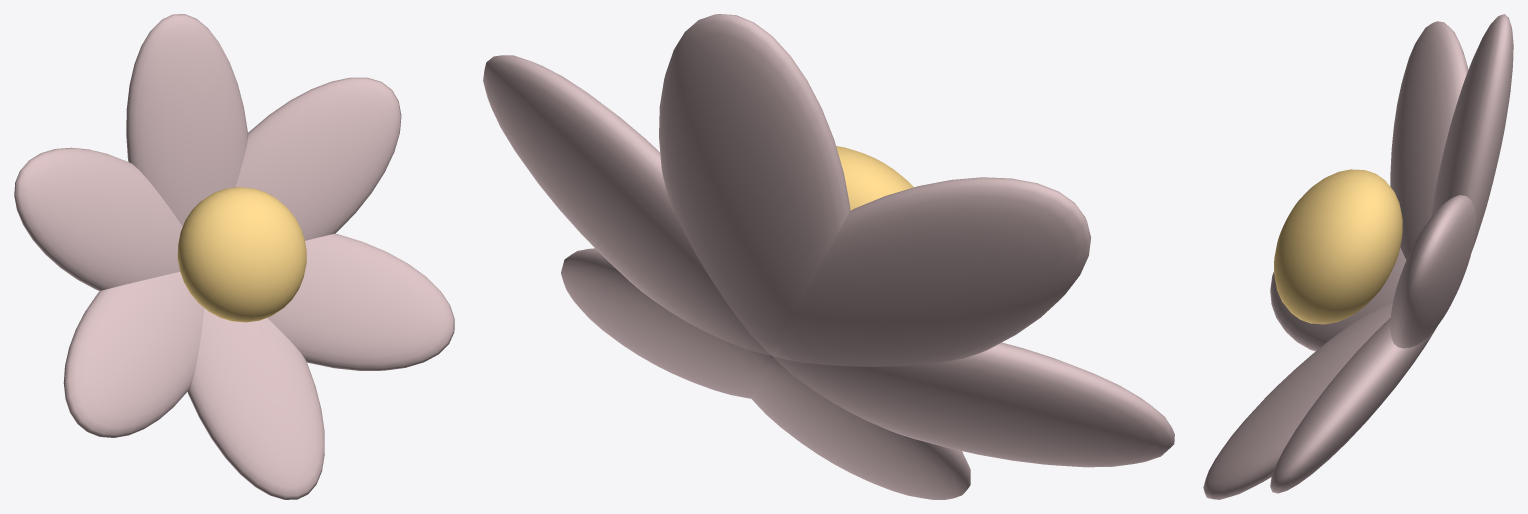
File: flower.glb
The picture shows the model from 3 angles, left to right: view 1: azimuth 30°, elevation 25°; view 2: azimuth 150°, elevation 25°; view 3: azimuth 270°, elevation 25°; orthographic projection. The views are drawn at different scales.
Parts seen in each view (by area): view 1: Flower; view 2: Flower; view 3: Flower.
Boxes of the visible parts, bbox=[...] form: Flower: bbox=[14, 14, 454, 499]; Flower: bbox=[483, 14, 1174, 499]; Flower: bbox=[1203, 14, 1513, 499].
Size of the model in its own units: 1.15 by 1.13 by 0.668.
